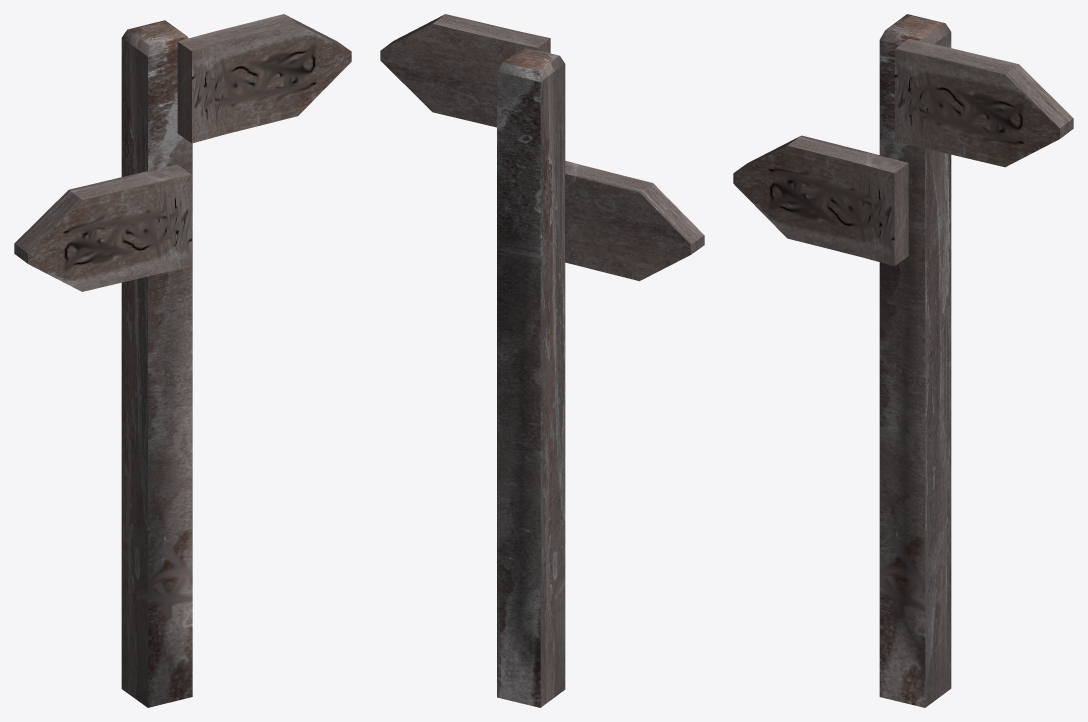
Rendered from Cartel_doble.obj.
3 views of the same model, side by side, from view 1: azimuth 30°, elevation 25°; view 2: azimuth 150°, elevation 25°; view 3: azimuth 330°, elevation 25° (orthographic). The views are drawn at different scales.
Visible parts, largest first — view 1: Cube.038; view 2: Cube.038; view 3: Cube.038.
Part boxes in pixels (x1,y1,x2,y2): Cube.038: (14, 14, 351, 707); Cube.038: (380, 14, 704, 707); Cube.038: (733, 14, 1073, 707).
Size of the model in its own units: 1.17 by 2.3 by 0.2549.
Materials: 1 (1 with a texture image).
